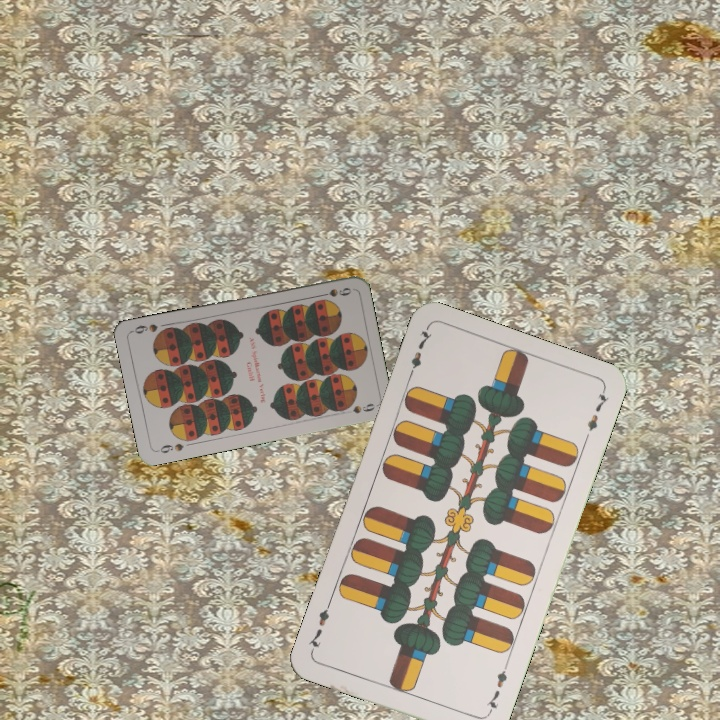E7: (404, 324, 435, 381), (482, 660, 511, 718)
S9: (313, 284, 354, 300), (152, 439, 186, 456)
